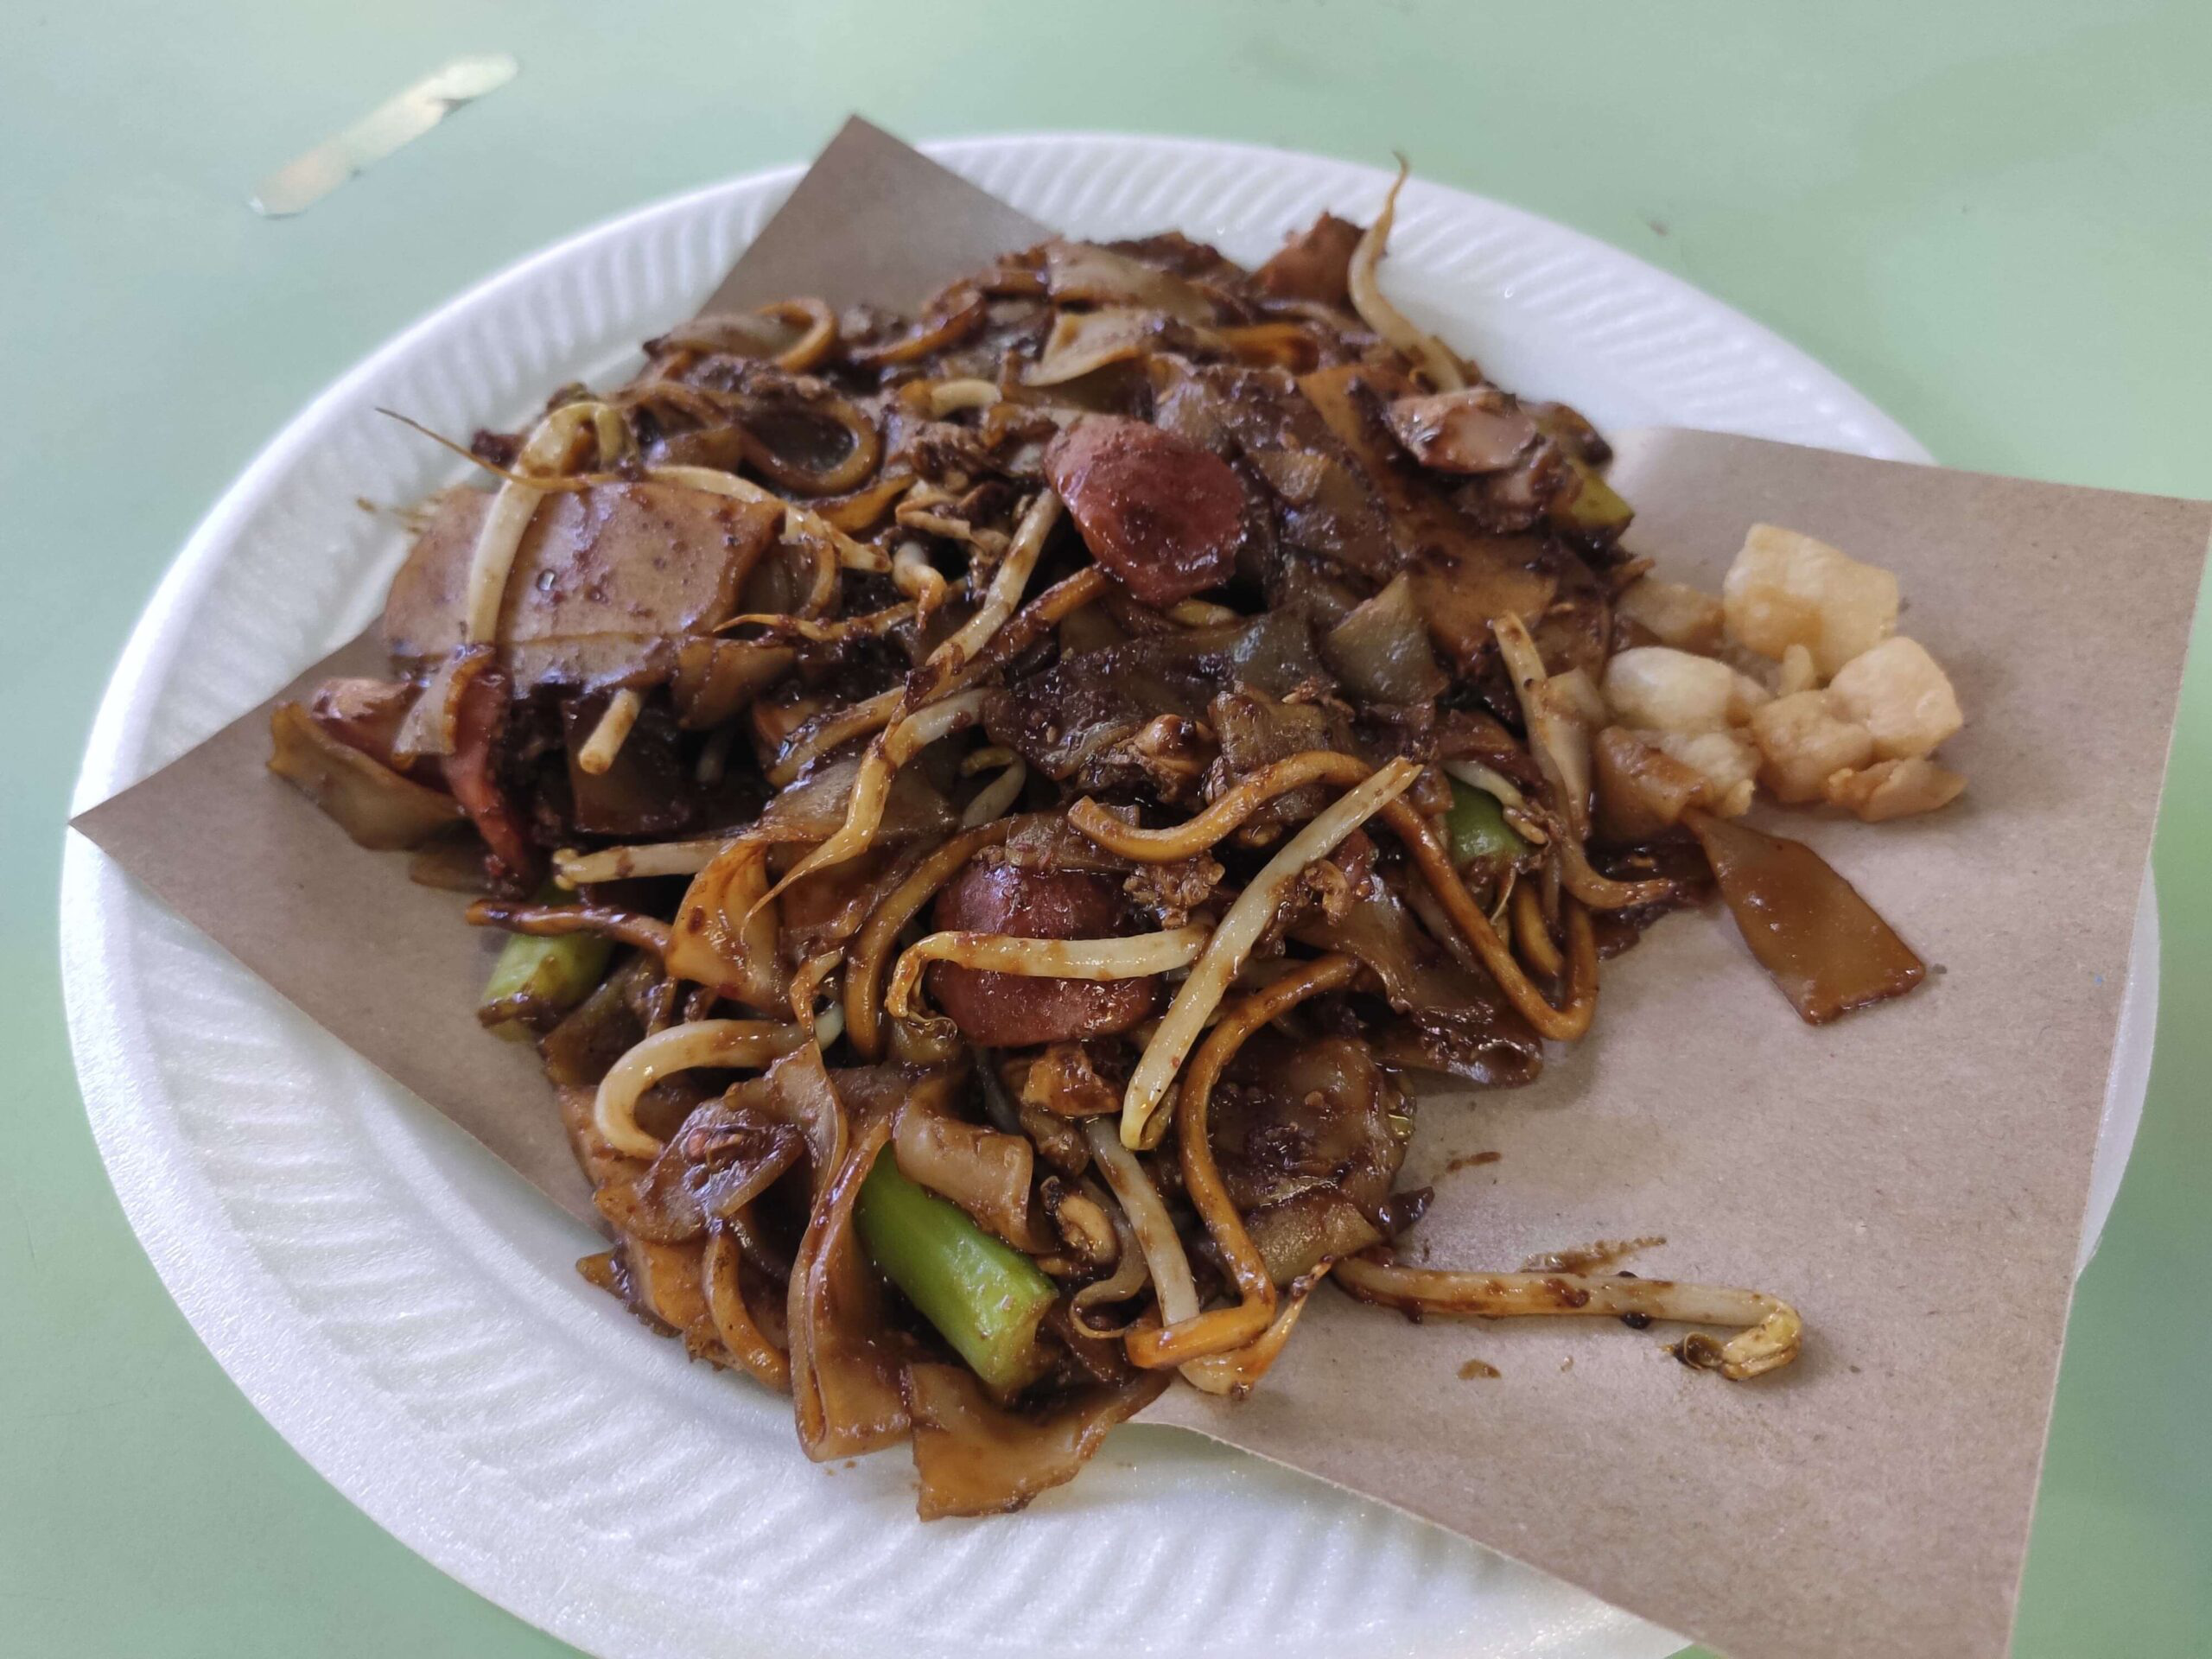Char Kway Teow: (251, 218, 2005, 1509)
